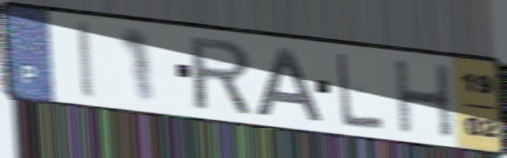1: (116, 27, 159, 108)
A: (252, 45, 326, 123)
H: (390, 58, 457, 141)
I: (73, 19, 97, 102)
L: (334, 50, 387, 132)
R: (185, 33, 256, 118)
